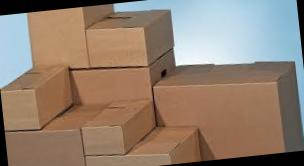cardboard: (79, 0, 193, 73), (73, 91, 166, 164), (0, 57, 83, 138)
